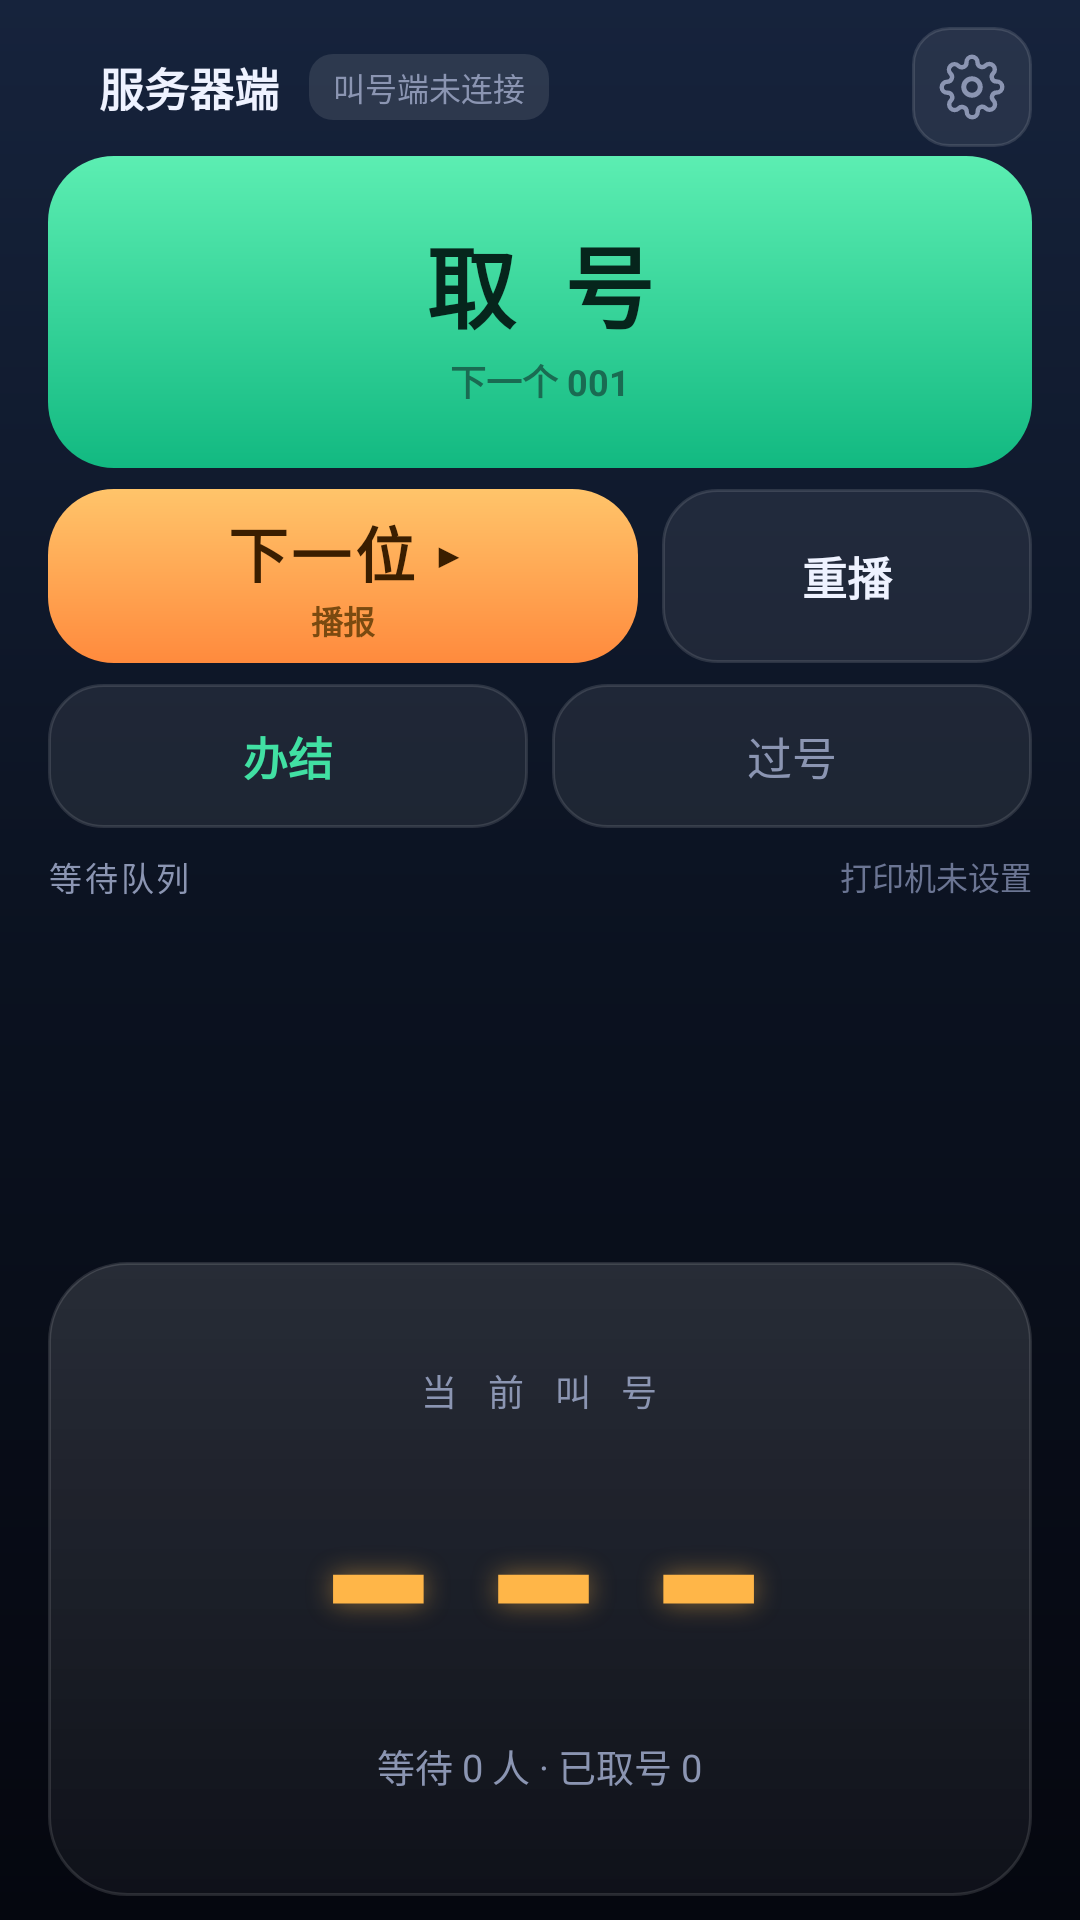

Icons on this 1080x1920 Android screen, each with its box as (x1, y1, x2, y2):
设置: (912, 27, 1032, 147)
